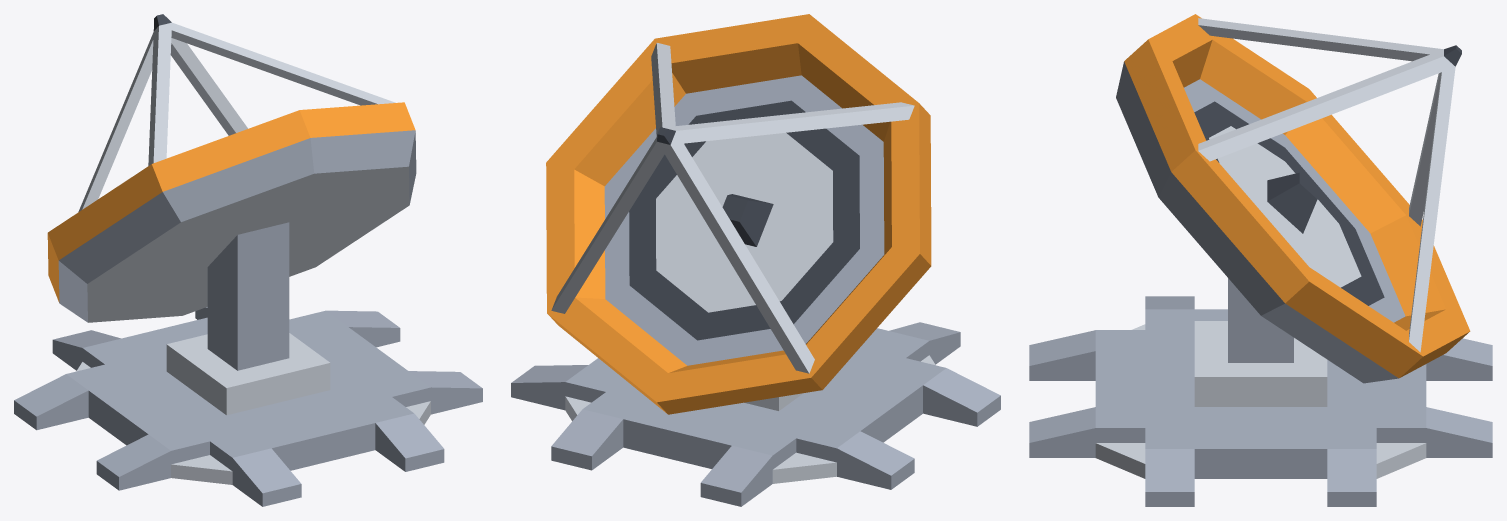
The model's file is k-satellite-dish-detailed.glb.
3 views of the same model, side by side, from view 1: azimuth 30°, elevation 25°; view 2: azimuth 150°, elevation 25°; view 3: azimuth 270°, elevation 25° (orthographic). The views are drawn at different scales.
Visible parts, largest first — view 1: satelliteDish_detailed; view 2: satelliteDish_detailed; view 3: satelliteDish_detailed.
Boxes of the visible parts, <box> form: satelliteDish_detailed: <box>14,14,482,506</box>; satelliteDish_detailed: <box>511,14,1000,506</box>; satelliteDish_detailed: <box>1029,14,1492,506</box>.
Bounding box in the file's own units: 0.7 × 0.6165 × 0.7.
